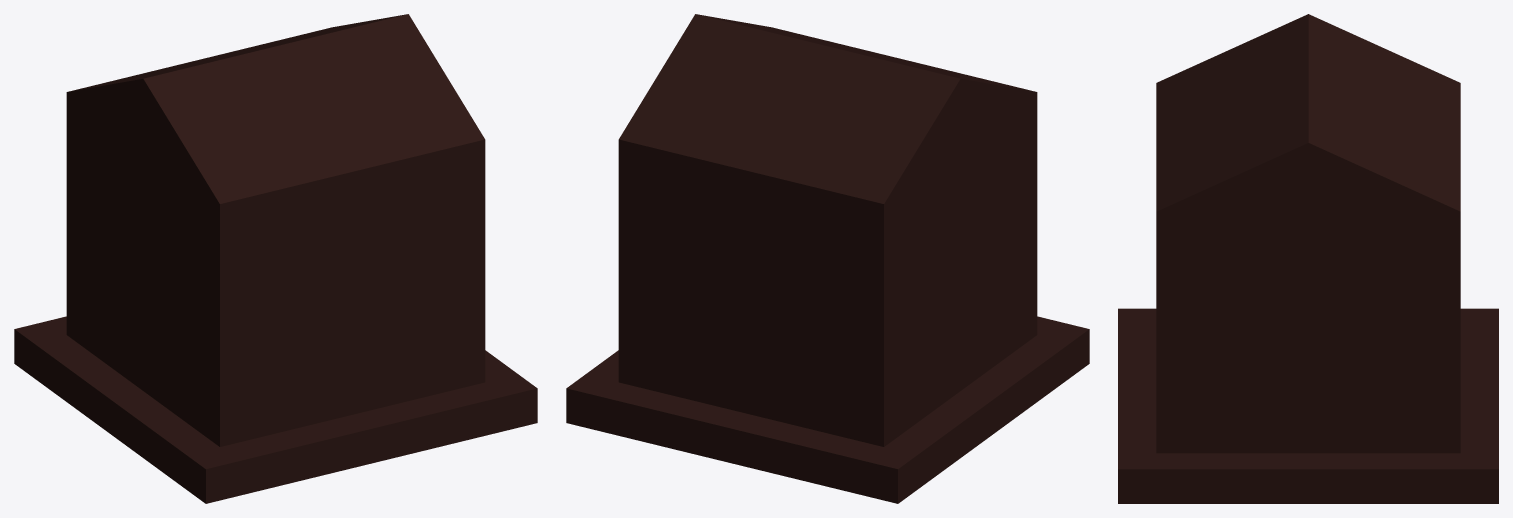
The model's file is Tavern.glb.
3 views of the same model, side by side, from view 1: azimuth 30°, elevation 25°; view 2: azimuth 150°, elevation 25°; view 3: azimuth 270°, elevation 25° (orthographic).
Visible parts, largest first — view 1: 1Tavern; view 2: 1Tavern; view 3: 1Tavern.
Boxes of the visible parts, <box> form: 1Tavern: <box>14,14,537,503</box>; 1Tavern: <box>566,14,1089,503</box>; 1Tavern: <box>1118,14,1498,503</box>.
Bounding box in the file's own units: 1 × 1 × 1.
